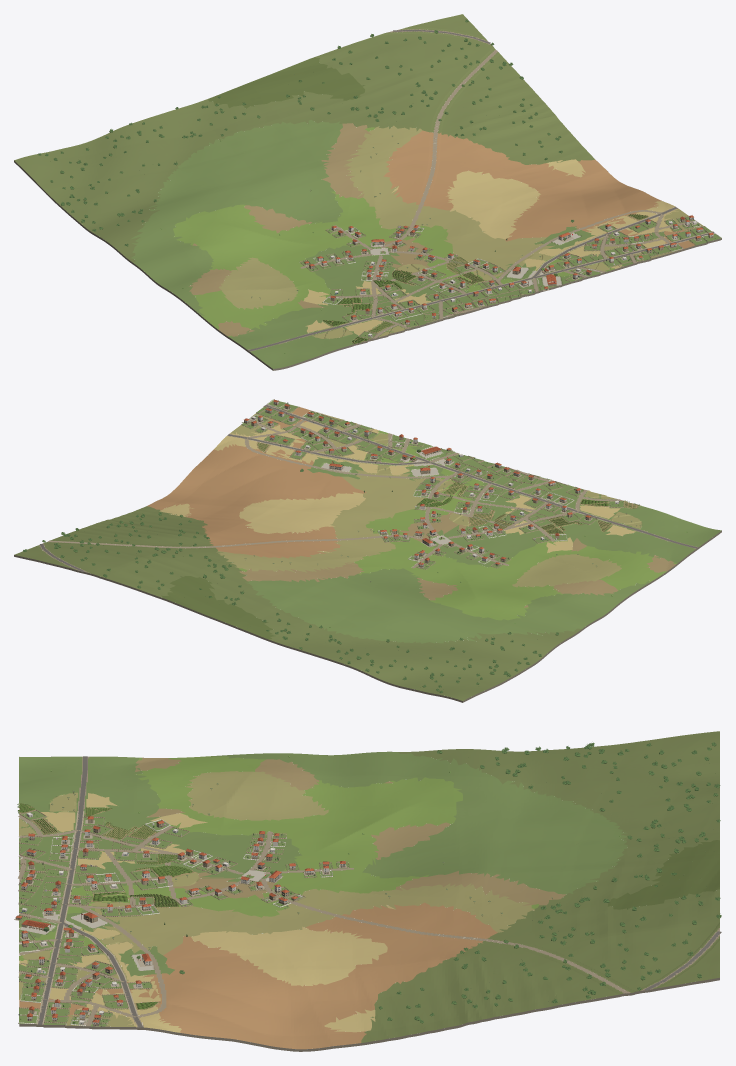
The model's file is parca_+6_-2-yakin.glb.
3 views of the same model, one above another, from view 1: azimuth 30°, elevation 25°; view 2: azimuth 150°, elevation 25°; view 3: azimuth 270°, elevation 25° (orthographic). The views are drawn at different scales.
Visible parts, largest first — view 1: parca_+6_-2_arazi, parca_+6_-2_yollar, parca_+6_-2_yapilar, parca_+6_-2_duvarlar, parca_+6_-2_bitkiler, parca_+6_-2_asma; view 2: parca_+6_-2_arazi, parca_+6_-2_yollar, parca_+6_-2_yapilar, parca_+6_-2_duvarlar, parca_+6_-2_bitkiler, parca_+6_-2_asma; view 3: parca_+6_-2_arazi, parca_+6_-2_yollar, parca_+6_-2_yapilar, parca_+6_-2_duvarlar, parca_+6_-2_bitkiler, parca_+6_-2_asma.
Boxes of the visible parts, <box> form: parca_+6_-2_arazi: <box>14,14,721,370</box>; parca_+6_-2_yollar: <box>248,29,714,351</box>; parca_+6_-2_yapilar: <box>304,215,713,336</box>; parca_+6_-2_duvarlar: <box>300,216,720,338</box>; parca_+6_-2_bitkiler: <box>38,19,715,353</box>; parca_+6_-2_asma: <box>323,214,647,343</box>; parca_+6_-2_arazi: <box>14,399,721,702</box>; parca_+6_-2_yollar: <box>40,404,697,571</box>; parca_+6_-2_yapilar: <box>243,399,618,567</box>; parca_+6_-2_duvarlar: <box>241,399,623,569</box>; parca_+6_-2_bitkiler: <box>21,400,687,693</box>; parca_+6_-2_asma: <box>257,442,639,533</box>; parca_+6_-2_arazi: <box>19,731,719,1051</box>; parca_+6_-2_yollar: <box>18,756,721,1027</box>; parca_+6_-2_yapilar: <box>14,812,346,1026</box>; parca_+6_-2_duvarlar: <box>18,809,348,1026</box>; parca_+6_-2_bitkiler: <box>18,742,721,1026</box>; parca_+6_-2_asma: <box>17,803,192,1009</box>.
Bounding box in the file's own units: 1005 × 130 × 1010.
